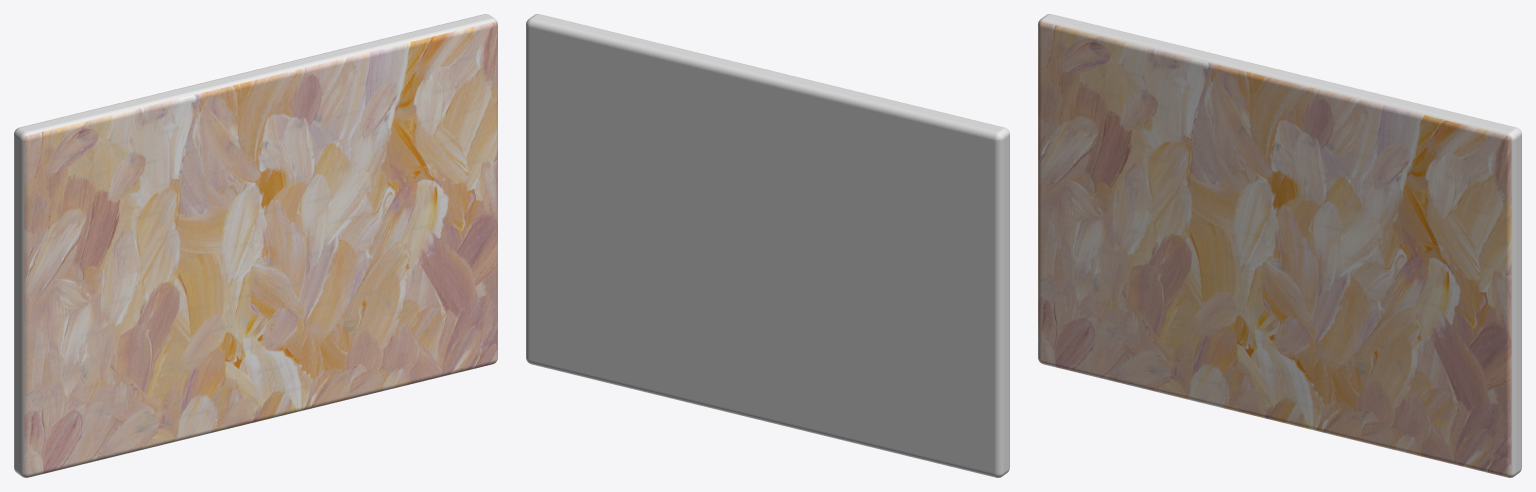
Rendered from picture3.glb.
3 renders of one model, left to right at view 1: azimuth 30°, elevation 25°; view 2: azimuth 150°, elevation 25°; view 3: azimuth 330°, elevation 25°, orthographic.
Visible parts, largest first — view 1: Cube; view 2: Cube; view 3: Cube.
Part boxes in pixels (<box>): Cube: <box>14,14,497,477</box>; Cube: <box>526,14,1009,477</box>; Cube: <box>1038,14,1521,477</box>.
Size of the model in its own units: 1.14 by 0.788 by 0.05.
2 materials, 1 textured.
